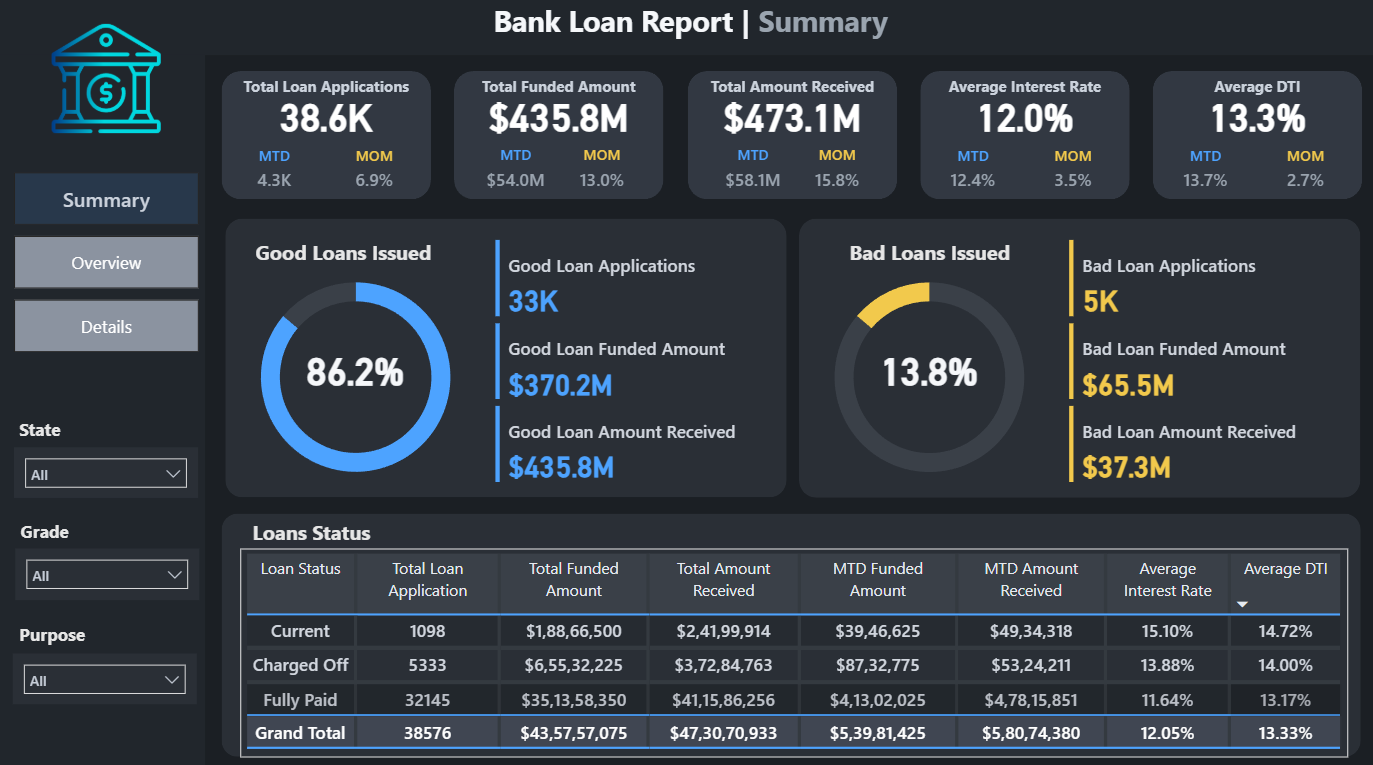

What the dashboard file says about the page in this screenshot:
{"tool":"powerbi","page":{"name":"Summary","canvas":[1280,720],"ordinal":0},"visuals":[{"type":"shape","box":[0,0,1280.3,55],"z":0},{"type":"shape","box":[207.2,70,194.9,119.4],"z":0,"group":"g1"},{"type":"shape","box":[423.7,70,194.9,119.4],"z":0,"group":"g3"},{"type":"shape","box":[640.1,70,194.9,119.4],"z":0,"group":"g2"},{"type":"shape","box":[856.6,70,194.9,119.4],"z":0,"group":"g5"},{"type":"shape","box":[1073.1,70,194.9,119.4],"z":0,"group":"g4"},{"type":"shape","box":[210.8,206.9,522.2,259.5],"z":0,"group":"g7"},{"type":"shape","box":[744.2,206.9,522.2,259.7],"z":0,"group":"g6"},{"type":"shape","box":[0,54.2,191.7,665.3],"z":1000},{"type":"card","fields":{"Values":["bank_loan_data.total_loan_application"]},"box":[207.2,87.8,194.9,46.7],"z":1000,"group":"g1"},{"type":"card","fields":{"Values":["bank_loan_data.total_funded_amount"]},"box":[423.7,87.8,194.9,46.7],"z":1000,"group":"g3"},{"type":"card","fields":{"Values":["bank_loan_data.total_amount_received"]},"box":[640.1,87.8,194.9,46.7],"z":1000,"group":"g2"},{"type":"card","fields":{"Values":["bank_loan_data.average_interest_rate"]},"box":[856.6,87.8,194.9,46.7],"z":1000,"group":"g5"},{"type":"card","fields":{"Values":["bank_loan_data.average_dti"]},"box":[1073.1,87.8,194.9,46.7],"z":1000,"group":"g4"},{"type":"donutChart","fields":{"Category":["bank_loan_data.good_vs_bad_loans"],"Y":["bank_loan_data.total_loan_application"]},"box":[206.9,239,250,230.4],"z":1000,"group":"g7"},{"type":"donutChart","fields":{"Category":["bank_loan_data.good_vs_bad_loans"],"Y":["bank_loan_data.total_loan_application"]},"box":[740.3,239.1,250,230.6],"z":1000,"group":"g6"},{"type":"textbox","box":[439.1,0,407.5,54.9],"z":2000},{"type":"textbox","box":[207.2,70,194.9,35.7],"z":2000,"group":"g1"},{"type":"textbox","box":[423.7,70,194.9,35.7],"z":2000,"group":"g3"},{"type":"textbox","box":[640.1,70,194.9,35.7],"z":2000,"group":"g2"},{"type":"textbox","box":[856.6,70,194.9,35.7],"z":2000,"group":"g5"},{"type":"textbox","box":[1073.1,70,194.9,35.7],"z":2000,"group":"g4"},{"type":"cardVisual","fields":{"Data":["bank_loan_data.good_loan_applications","bank_loan_data.good_loan_funded_amount","bank_loan_data.good_loan_amount_recived"]},"box":[456.9,222.4,277.8,237.3],"z":2000,"group":"g7"},{"type":"cardVisual","fields":{"Data":["bank_loan_data.bad_loan_applications","bank_loan_data.bad_loan_funded_amount","bank_loan_data.bad_loan_amount_recived"]},"box":[990.3,222.4,277.8,237.5],"z":2000,"group":"g6"},{"type":"card","title":"MTD","fields":{"Values":["bank_loan_data.MTD_funded_ampount"]},"box":[446.7,138.6,68.6,50.8],"z":3000,"group":"g3"},{"type":"card","title":"MTD","fields":{"Values":["bank_loan_data.MTD_amount_received"]},"box":[668.3,138.6,65.9,50.8],"z":3000,"group":"g2"},{"type":"card","title":"MTD","fields":{"Values":["bank_loan_data.MTD_loan_applications"]},"box":[230.5,140,52.1,49.4],"z":3000,"group":"g1"},{"type":"card","title":"MTD","fields":{"Values":["bank_loan_data.MTD_average_interest_rate"]},"box":[879.9,140,52.1,49.4],"z":3000,"group":"g5"},{"type":"card","title":"MTD","fields":{"Values":["bank_loan_data.MTD_average_dti"]},"box":[1096.4,140,52.1,49.4],"z":3000,"group":"g4"},{"type":"shape","box":[206.9,481.9,1059.7,226.4],"z":3000},{"type":"group","id":"g1","title":"Group 1","box":[207.2,70,194.9,119.4],"z":4000},{"type":"card","title":"MOM","fields":{"Values":["bank_loan_data.MOM_funded_amount"]},"box":[530.4,138.6,61.7,50.8],"z":4000,"group":"g3"},{"type":"card","title":"MOM","fields":{"Values":["bank_loan_data.MOM_amount_received"]},"box":[746.5,138.6,64.5,50.8],"z":4000,"group":"g2"},{"type":"card","title":"MOM","fields":{"Values":["bank_loan_data.MOM_loan_applications"]},"box":[323.8,140,52.1,49.4],"z":4000,"group":"g1"},{"type":"card","title":"MOM","fields":{"Values":["bank_loan_data.MOM_average_interest_rate"]},"box":[973.2,140,52.1,49.4],"z":4000,"group":"g5"},{"type":"card","title":"MOM","fields":{"Values":["bank_loan_data.MOM_average_dti"]},"box":[1189.7,140,52.1,49.4],"z":4000,"group":"g4"},{"type":"textbox","box":[223.6,220.7,194.4,36.1],"z":4000,"group":"g7"},{"type":"group","id":"g2","title":"Group 1","box":[640.1,70,194.9,119.4],"z":5000},{"type":"textbox","box":[191.9,481.4,197.7,37.2],"z":6000},{"type":"group","id":"g3","title":"Group 1","box":[423.7,70,194.9,119.4],"z":7000},{"type":"group","id":"g4","title":"Group 1","box":[1073.1,70,194.9,119.4],"z":8000},{"type":"group","id":"g5","title":"Group 1","box":[856.6,70,194.9,119.4],"z":9000},{"type":"group","id":"g6","title":"Group 2","box":[740.3,206.9,527.8,262.5],"z":10000},{"type":"textbox","box":[768.1,220.8,194.4,36.1],"z":11000},{"type":"card","fields":{"Values":["bank_loan_data.bad_loan_percentage"]},"box":[793.1,320.8,144.4,51.4],"z":12000},{"type":"tableEx","fields":{"Values":["bank_loan_data.loan_status","bank_loan_data.total_loan_application","bank_loan_data.total_funded_amount","bank_loan_data.total_amount_received","bank_loan_data.MTD_funded_ampount","bank_loan_data.MTD_amount_received","bank_loan_data.average_interest_rate","bank_loan_data.average_dti"]},"box":[225,513.9,1029.2,194.4],"z":13000},{"type":"group","id":"g7","title":"Group 3","box":[206.9,206.9,527.8,262.5],"z":14000},{"type":"card","fields":{"Values":["bank_loan_data.good_loan_percentage"]},"box":[259.7,320.8,144.4,51.4],"z":15000},{"type":"slicer","fields":{"Values":["bank_loan_data.address_state"]},"box":[13.9,419.4,170.8,47.2],"z":16000},{"type":"slicer","fields":{"Values":["bank_loan_data.grade"]},"box":[15.1,514,170.9,47.7],"z":17000},{"type":"textbox","box":[15.3,481.9,84.7,36.1],"z":18000},{"type":"slicer","fields":{"Values":["bank_loan_data.purpose"]},"box":[12.5,611.1,170.8,47.2],"z":19000},{"type":"textbox","box":[13.9,577.8,84.7,36.1],"z":20000},{"type":"textbox","box":[13.9,387.5,84.7,36.1],"z":21000},{"type":"pageNavigator","box":[14,164,172.1,167.4],"z":22000},{"type":"image","box":[36,14,126.7,125.6],"z":23000}]}

Visuals, with their boxes in screenshot pixels (x1, y1, x2, y2), scaled from the page's 1280x720 canvas onto the 1373x765 screenshot:
shape: <bbox>0, 0, 1372, 58</bbox>
shape: <bbox>222, 74, 431, 201</bbox>
shape: <bbox>454, 74, 664, 201</bbox>
shape: <bbox>687, 74, 896, 201</bbox>
shape: <bbox>919, 74, 1128, 201</bbox>
shape: <bbox>1151, 74, 1360, 201</bbox>
shape: <bbox>226, 220, 786, 496</bbox>
shape: <bbox>798, 220, 1358, 496</bbox>
shape: <bbox>0, 58, 206, 764</bbox>
card - bank_loan_data.total_loan_application: <bbox>222, 93, 431, 143</bbox>
card - bank_loan_data.total_funded_amount: <bbox>454, 93, 664, 143</bbox>
card - bank_loan_data.total_amount_received: <bbox>687, 93, 896, 143</bbox>
card - bank_loan_data.average_interest_rate: <bbox>919, 93, 1128, 143</bbox>
card - bank_loan_data.average_dti: <bbox>1151, 93, 1360, 143</bbox>
donutChart - bank_loan_data.good_vs_bad_loans x bank_loan_data.total_loan_application: <bbox>222, 254, 490, 499</bbox>
donutChart - bank_loan_data.good_vs_bad_loans x bank_loan_data.total_loan_application: <bbox>794, 254, 1062, 499</bbox>
textbox: <bbox>471, 0, 908, 58</bbox>
textbox: <bbox>222, 74, 431, 112</bbox>
textbox: <bbox>454, 74, 664, 112</bbox>
textbox: <bbox>687, 74, 896, 112</bbox>
textbox: <bbox>919, 74, 1128, 112</bbox>
textbox: <bbox>1151, 74, 1360, 112</bbox>
cardVisual - bank_loan_data.good_loan_applications x bank_loan_data.good_loan_funded_amount: <bbox>490, 236, 788, 488</bbox>
cardVisual - bank_loan_data.bad_loan_applications x bank_loan_data.bad_loan_funded_amount: <bbox>1062, 236, 1360, 489</bbox>
"MTD" card: <bbox>479, 147, 553, 201</bbox>
"MTD" card: <bbox>717, 147, 788, 201</bbox>
"MTD" card: <bbox>247, 149, 303, 201</bbox>
"MTD" card: <bbox>944, 149, 1000, 201</bbox>
"MTD" card: <bbox>1176, 149, 1232, 201</bbox>
shape: <bbox>222, 512, 1359, 753</bbox>
"Group 1" group: <bbox>222, 74, 431, 201</bbox>
"MOM" card: <bbox>569, 147, 635, 201</bbox>
"MOM" card: <bbox>801, 147, 870, 201</bbox>
"MOM" card: <bbox>347, 149, 403, 201</bbox>
"MOM" card: <bbox>1044, 149, 1100, 201</bbox>
"MOM" card: <bbox>1276, 149, 1332, 201</bbox>
textbox: <bbox>240, 234, 448, 273</bbox>
"Group 1" group: <bbox>687, 74, 896, 201</bbox>
textbox: <bbox>206, 511, 418, 551</bbox>
"Group 1" group: <bbox>454, 74, 664, 201</bbox>
"Group 1" group: <bbox>1151, 74, 1360, 201</bbox>
"Group 1" group: <bbox>919, 74, 1128, 201</bbox>
"Group 2" group: <bbox>794, 220, 1360, 499</bbox>
textbox: <bbox>824, 235, 1032, 273</bbox>
card - bank_loan_data.bad_loan_percentage: <bbox>851, 341, 1006, 395</bbox>
tableEx - bank_loan_data.loan_status x bank_loan_data.total_loan_application: <bbox>241, 546, 1345, 753</bbox>
"Group 3" group: <bbox>222, 220, 788, 499</bbox>
card - bank_loan_data.good_loan_percentage: <bbox>279, 341, 433, 395</bbox>
slicer - bank_loan_data.address_state: <bbox>15, 446, 198, 496</bbox>
slicer - bank_loan_data.grade: <bbox>16, 546, 200, 597</bbox>
textbox: <bbox>16, 512, 107, 550</bbox>
slicer - bank_loan_data.purpose: <bbox>13, 649, 197, 699</bbox>
textbox: <bbox>15, 614, 106, 652</bbox>
textbox: <bbox>15, 412, 106, 450</bbox>
pageNavigator: <bbox>15, 174, 200, 352</bbox>
image: <bbox>39, 15, 175, 148</bbox>
